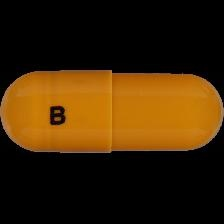60429-164: (0, 0, 224, 224)
